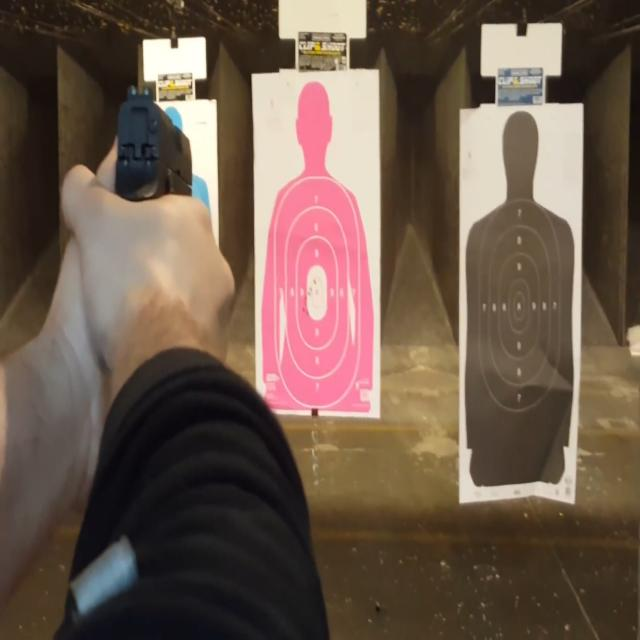handgun: (111, 68, 203, 290)
